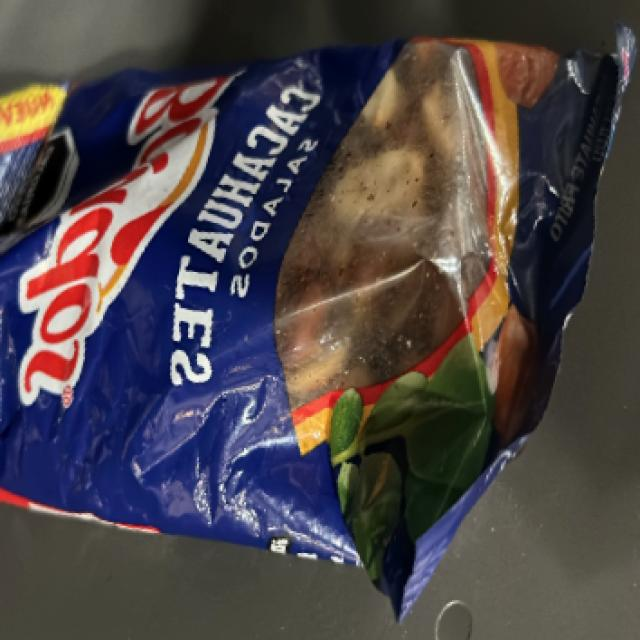bokadosCacahuates: (5, 62, 559, 508)
